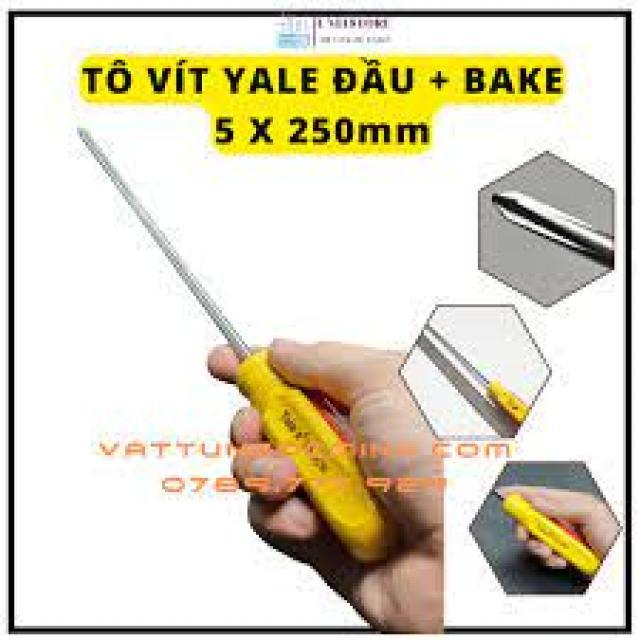screwdriver: (71, 120, 401, 564)
